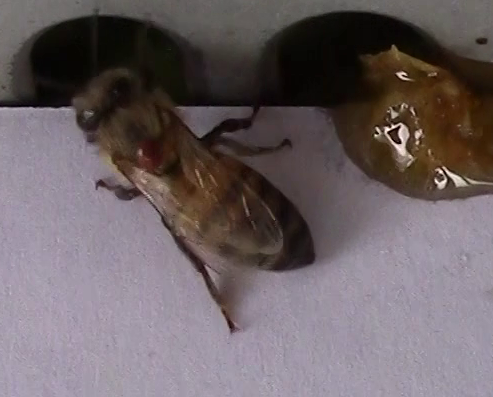Varroa destructor: (131, 134, 165, 169)
